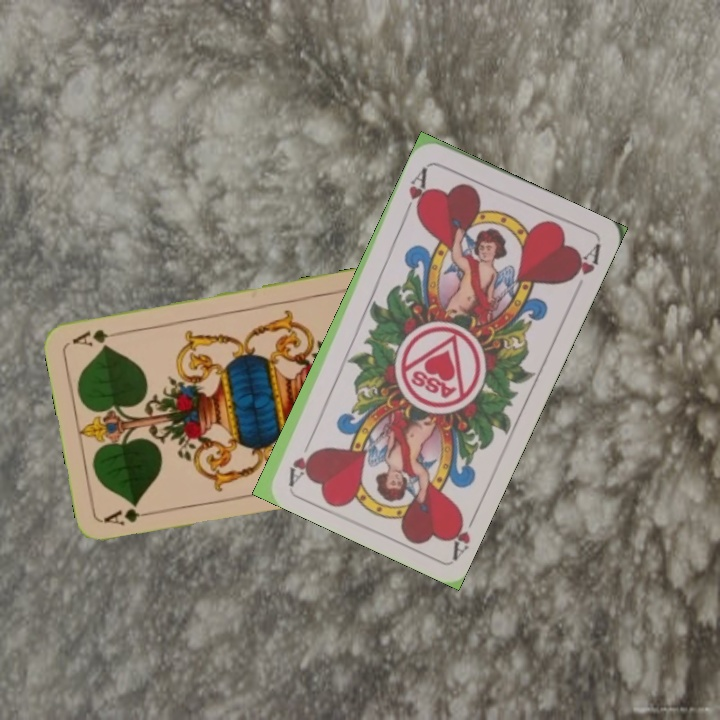GA: (100, 504, 159, 528)
HA: (443, 504, 481, 560), (400, 161, 431, 218)
